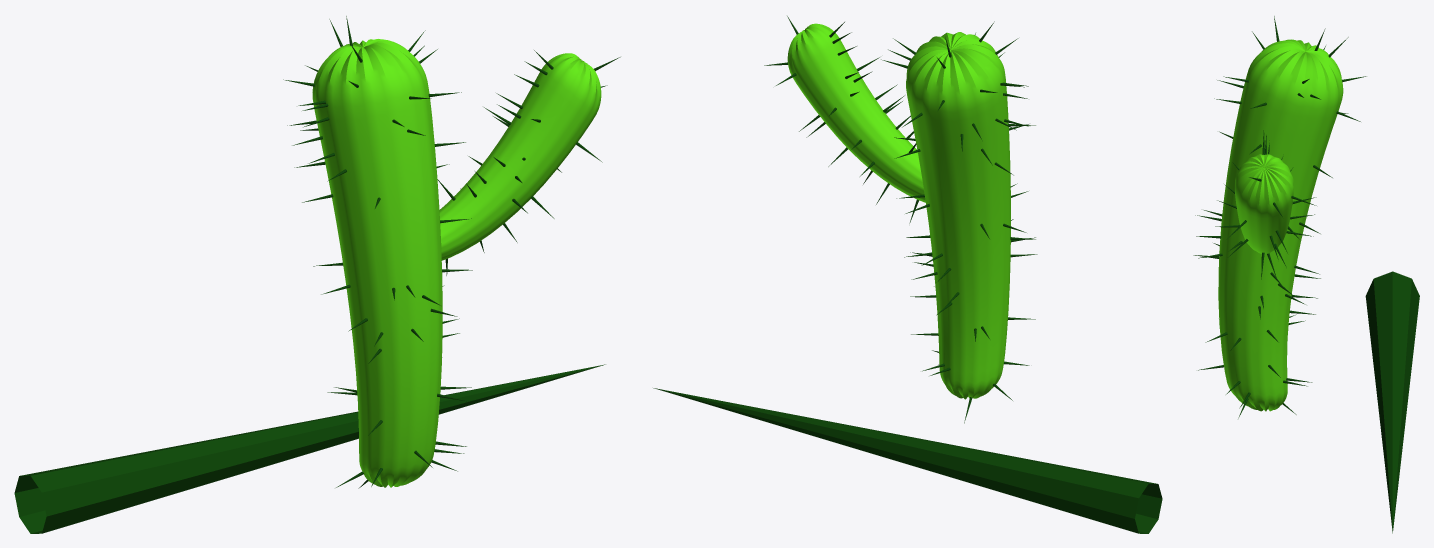
File: kaktus.fbx
The picture shows the model from 3 angles, left to right: view 1: azimuth 30°, elevation 25°; view 2: azimuth 150°, elevation 25°; view 3: azimuth 270°, elevation 25°; orthographic projection. The views are drawn at different scales.
Parts seen in each view (by area): view 1: Circle.001, Cone; view 2: Circle.001, Cone; view 3: Circle.001, Cone.
Part boxes in pixels (left/top/right/bottom): Circle.001: left=312, top=39, right=601, bottom=487; Cone: left=14, top=364, right=605, bottom=533; Circle.001: left=787, top=23, right=1010, bottom=399; Cone: left=653, top=388, right=1162, bottom=533; Circle.001: left=1218, top=39, right=1343, bottom=411; Cone: left=1365, top=271, right=1419, bottom=533.
Size of the model in its own units: 1369 by 1097 by 557.
